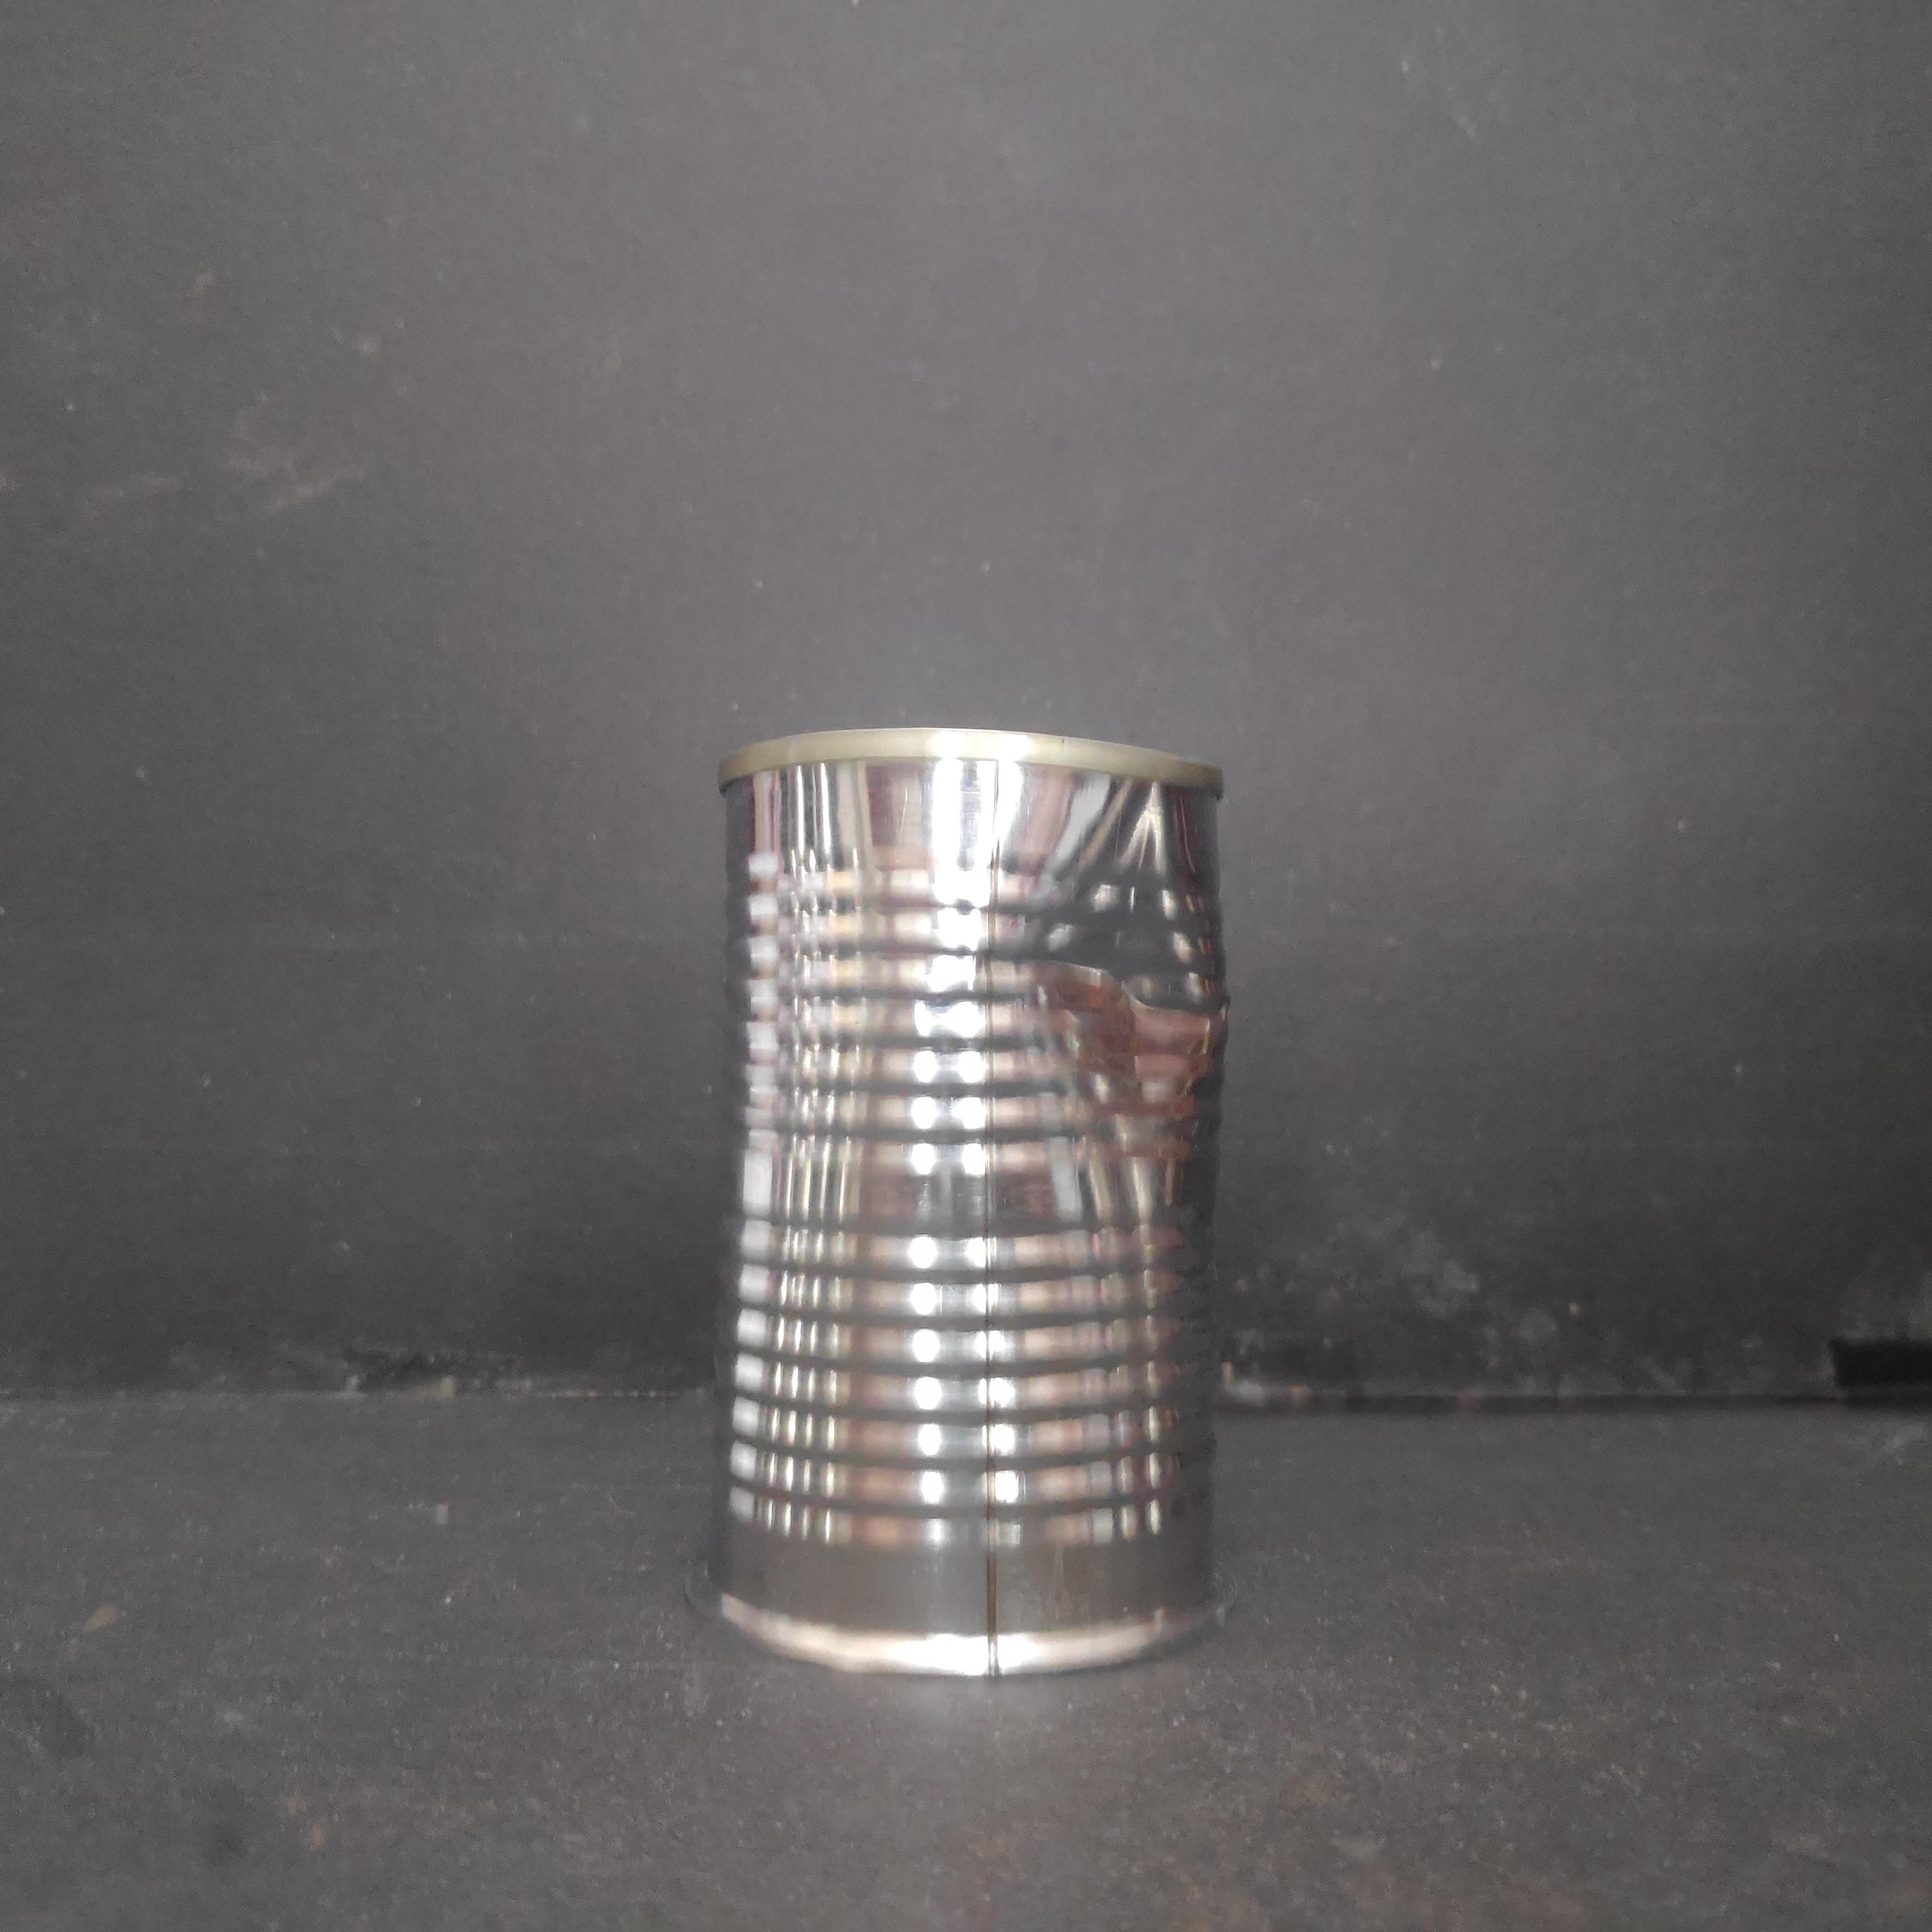Minor Defect: (708, 720, 1251, 1700)
